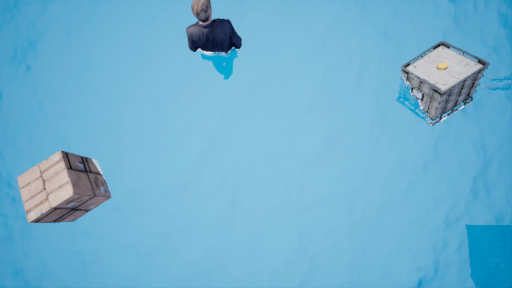person: (189, 1, 244, 77)
